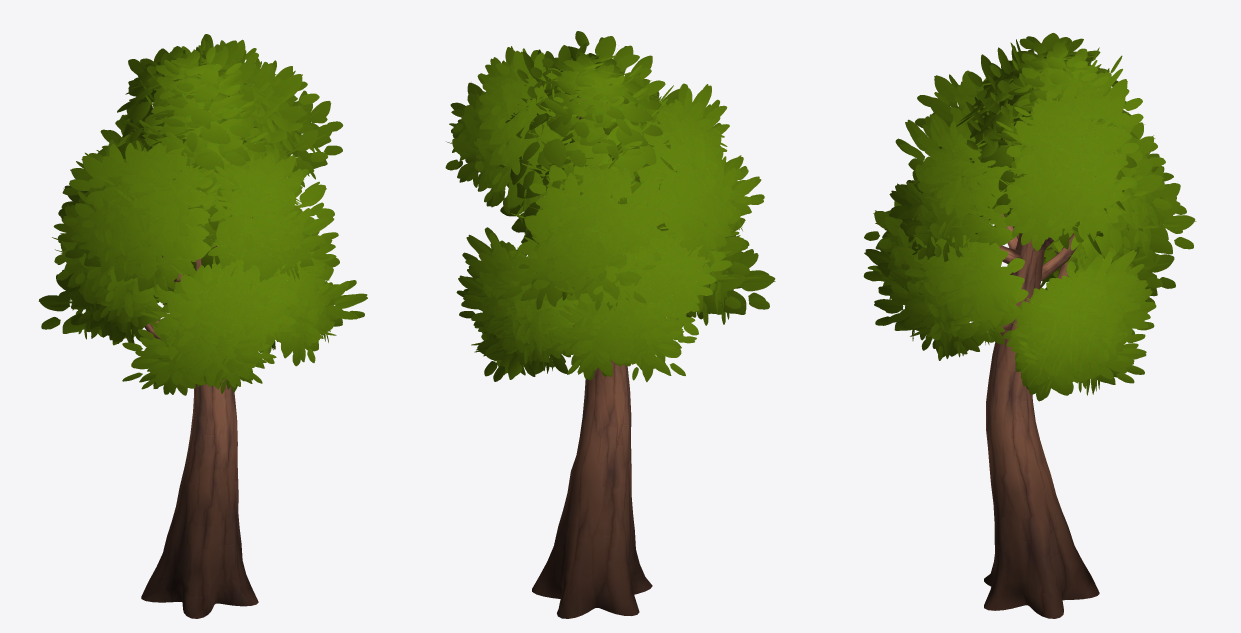
File: sn_common_tree_1.glb
The picture shows the model from 3 angles, left to right: view 1: azimuth 30°, elevation 25°; view 2: azimuth 150°, elevation 25°; view 3: azimuth 270°, elevation 25°; orthographic projection. The views are drawn at different scales.
Visible parts, largest first — view 1: CommonTree_1; view 2: CommonTree_1; view 3: CommonTree_1.
Part boxes in pixels (x1=…): CommonTree_1: x1=38, y1=34, x2=367, y2=618; CommonTree_1: x1=445, y1=31, x2=775, y2=618; CommonTree_1: x1=863, y1=33, x2=1196, y2=618.
Size of the model in its own units: 4.31 by 7.26 by 4.58.
2 materials, 2 textured.
